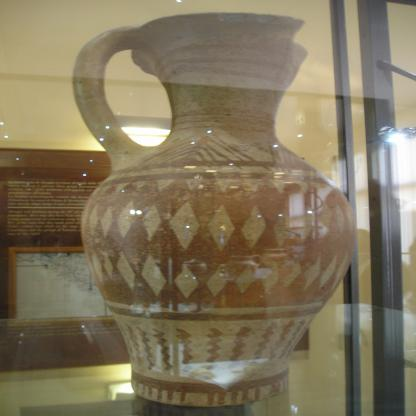vase: (71, 15, 357, 408)
